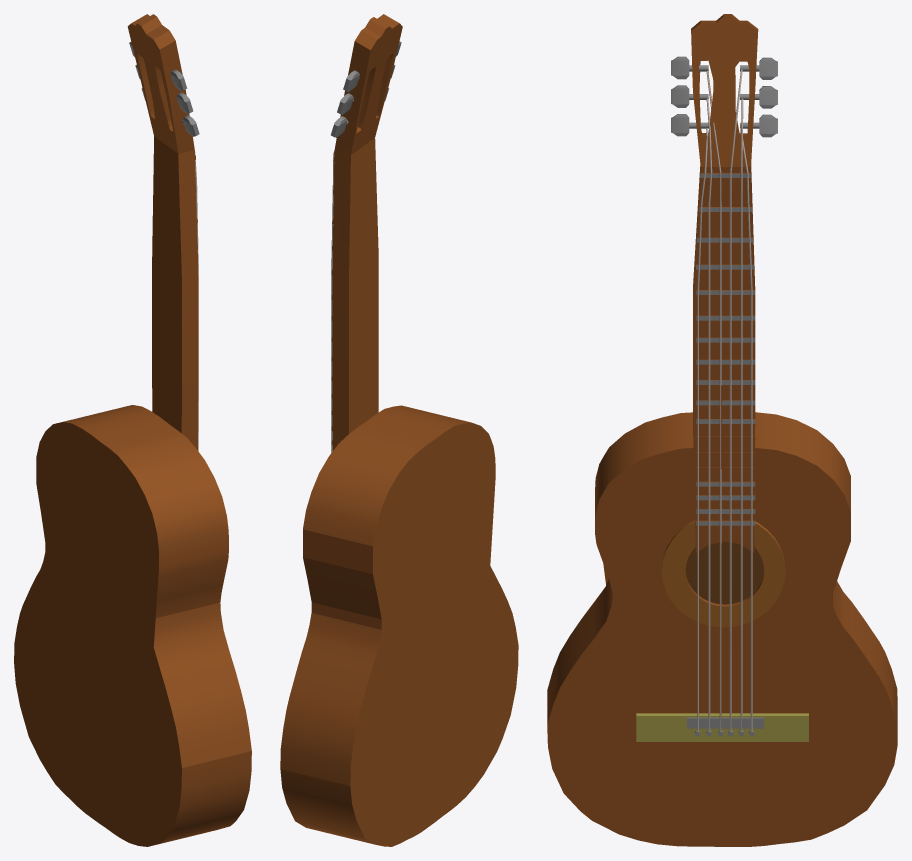
Rendered from guitar.fbx.
3 renders of one model, left to right at view 1: azimuth 30°, elevation 25°; view 2: azimuth 150°, elevation 25°; view 3: azimuth 270°, elevation 25°, orthographic. The views are drawn at different scales.
Parts seen in each view (by area): view 1: Guitar; view 2: Guitar; view 3: Guitar.
Part boxes in pixels (box(x1,y1,x2,y2)): Guitar: box(14, 14, 251, 846); Guitar: box(280, 14, 518, 846); Guitar: box(547, 14, 897, 846).
Size of the model in its own units: 57.31 by 487 by 187.
